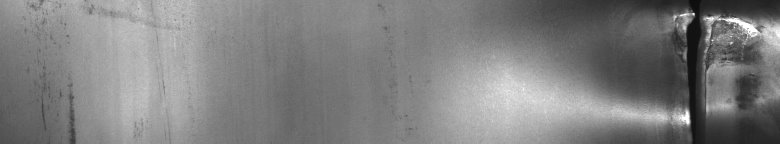ke: (664, 4, 765, 136)
